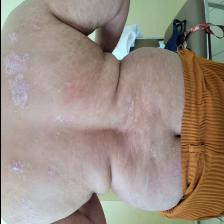Psoriasis vulgaris: (114, 64, 180, 174), (0, 26, 34, 116), (4, 148, 38, 222), (48, 108, 78, 142), (44, 152, 62, 179)
